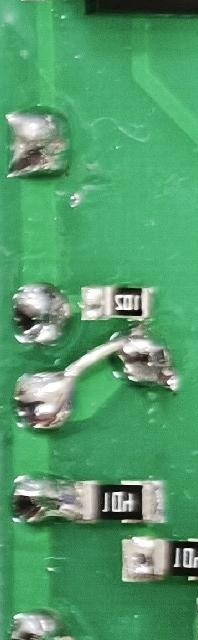chip-resistor: (69, 477, 167, 526), (118, 532, 198, 583), (75, 283, 158, 325)
